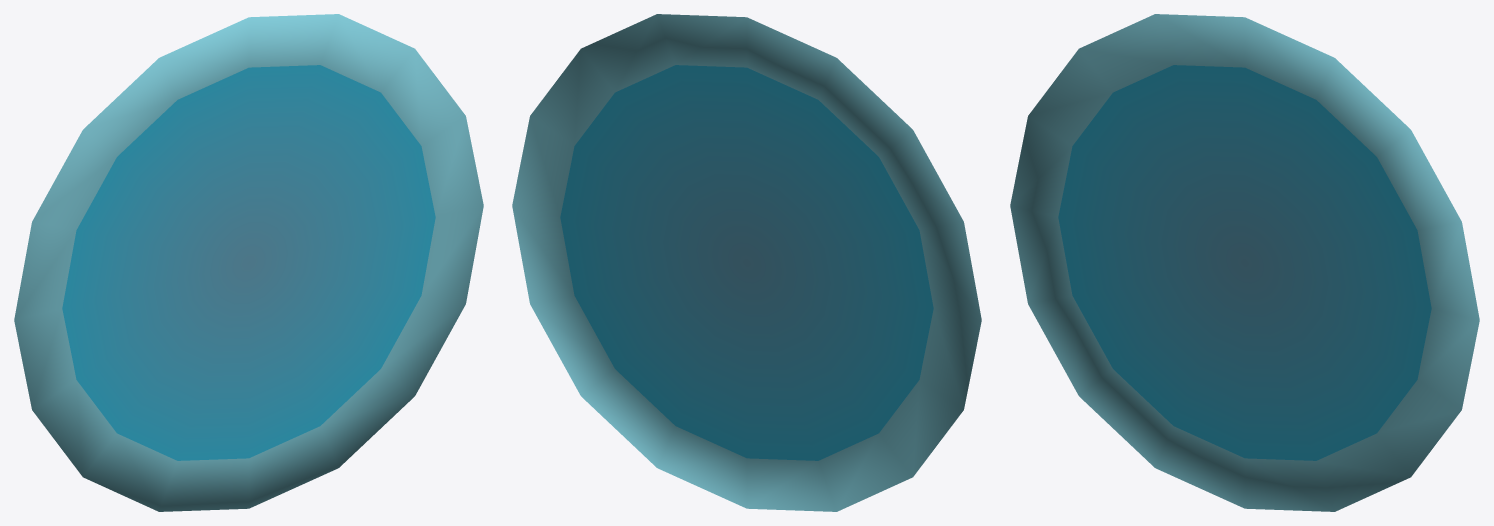
File: floatingPlatformDisk.fbx
3 renders of one model, left to right at view 1: azimuth 30°, elevation 25°; view 2: azimuth 150°, elevation 25°; view 3: azimuth 330°, elevation 25°, orthographic.
Parts seen in each view (by area): view 1: floatingPlatformDisk; view 2: floatingPlatformDisk; view 3: floatingPlatformDisk.
Part boxes in pixels (left/top/right/bottom): floatingPlatformDisk: left=14, top=14, right=483, bottom=511; floatingPlatformDisk: left=512, top=14, right=981, bottom=511; floatingPlatformDisk: left=1010, top=14, right=1479, bottom=511.
Size of the model in its own units: 102 by 102 by 1.66e-05.
